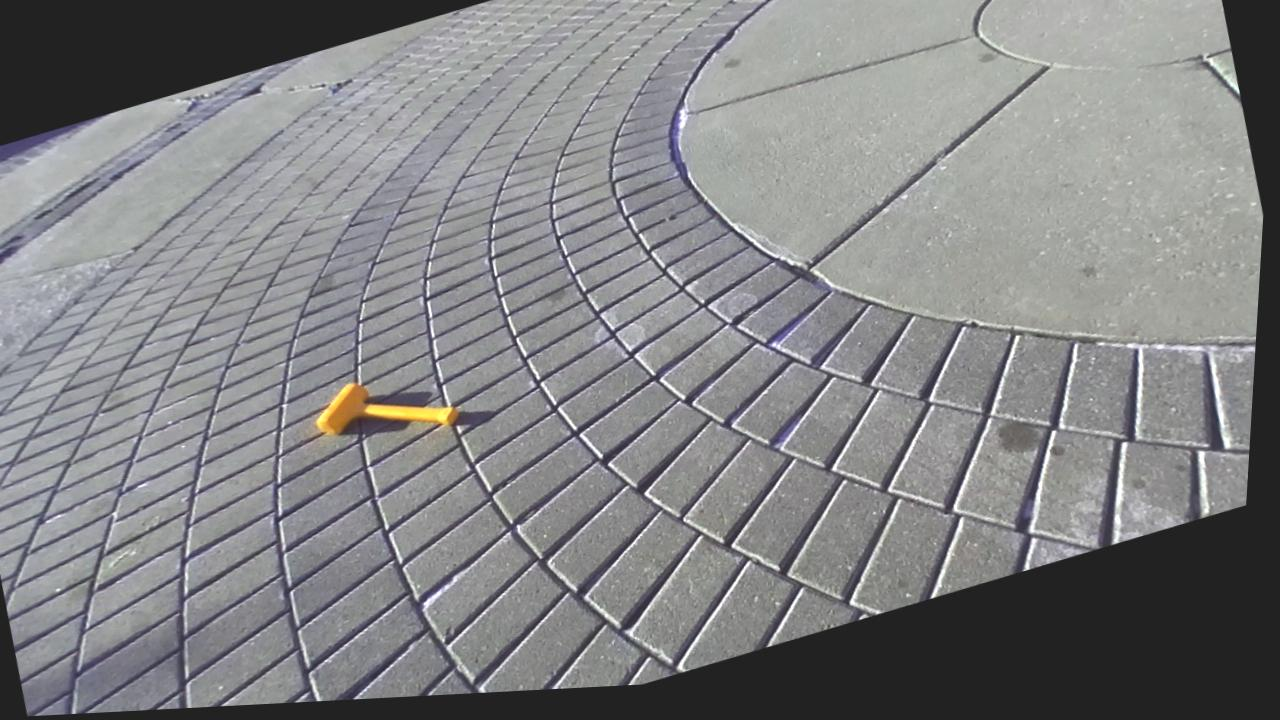mallet: (316, 382, 458, 434)
